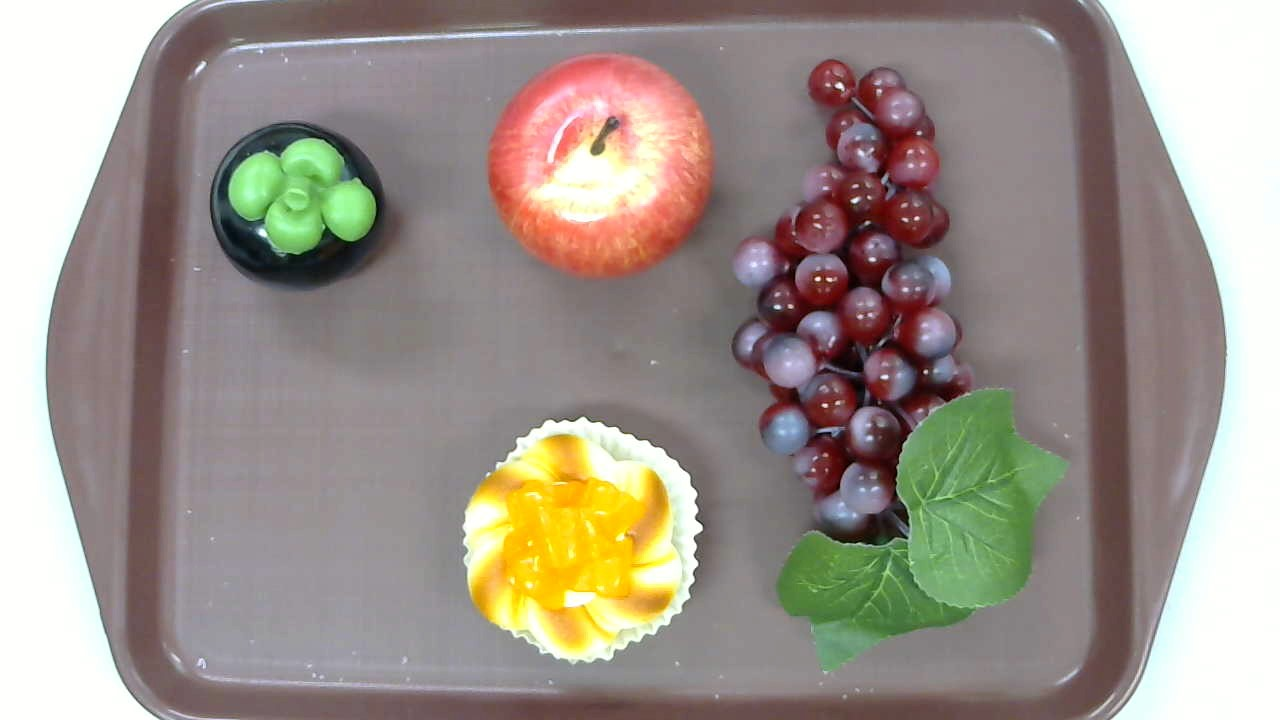grape: (731, 59, 1070, 680)
mango tart: (462, 416, 705, 665)
mangosteen: (210, 122, 385, 292)
red apple: (487, 53, 716, 281)
